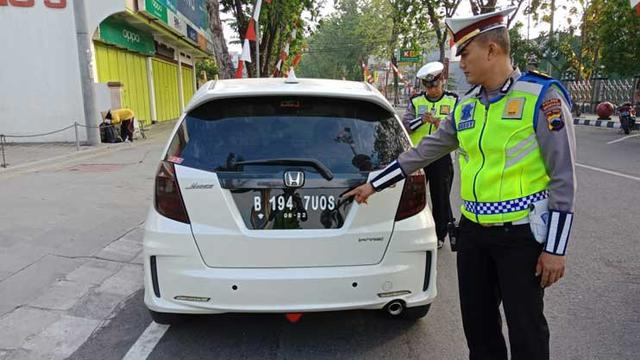plate: (249, 191, 338, 221)
